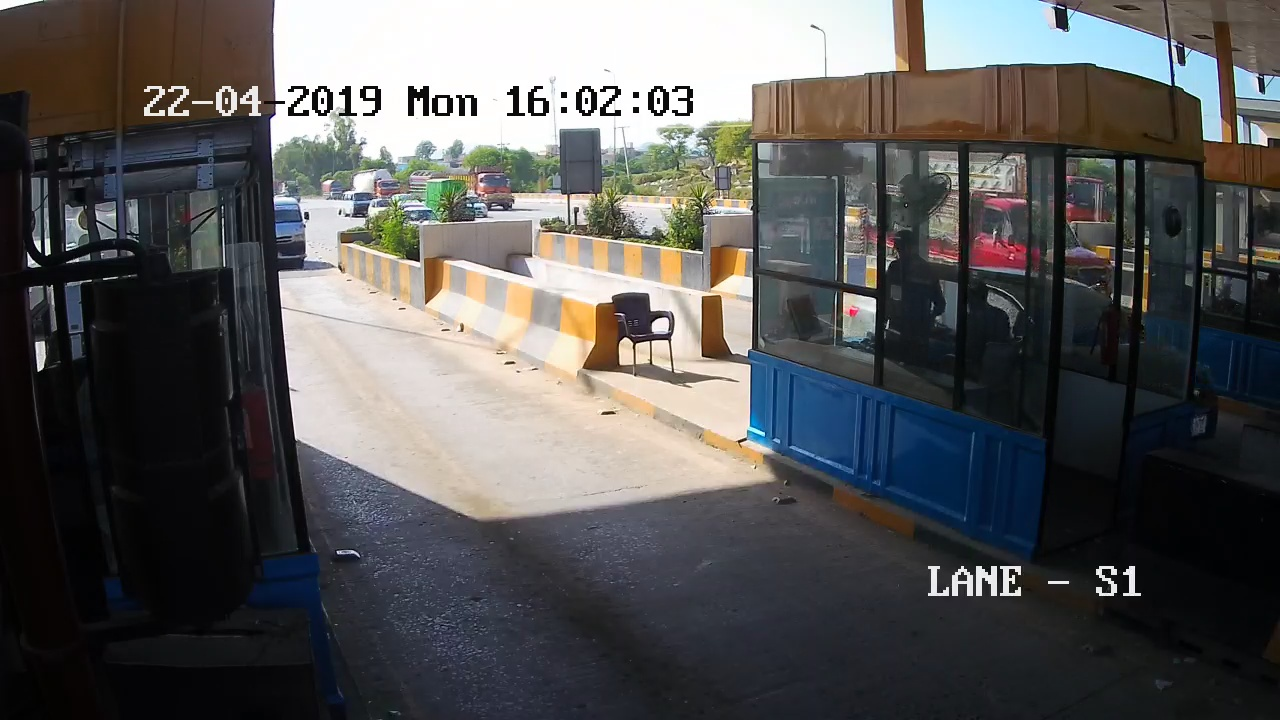car: (269, 191, 316, 276)
